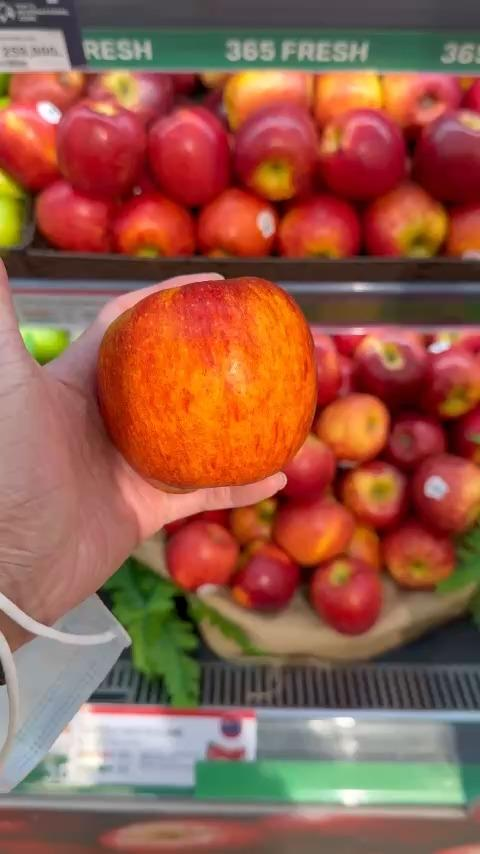apple: (88, 277, 330, 483), (53, 97, 143, 199), (242, 107, 318, 199), (33, 172, 117, 247), (153, 109, 225, 196), (228, 530, 296, 615), (265, 485, 346, 556), (117, 202, 200, 271), (313, 547, 382, 630), (333, 117, 402, 199), (163, 517, 232, 595), (283, 199, 366, 263), (340, 330, 434, 384), (417, 112, 480, 191), (385, 514, 453, 586), (413, 457, 480, 528), (380, 192, 446, 264), (322, 392, 386, 460), (202, 199, 284, 251), (342, 464, 406, 524), (413, 358, 480, 414)
